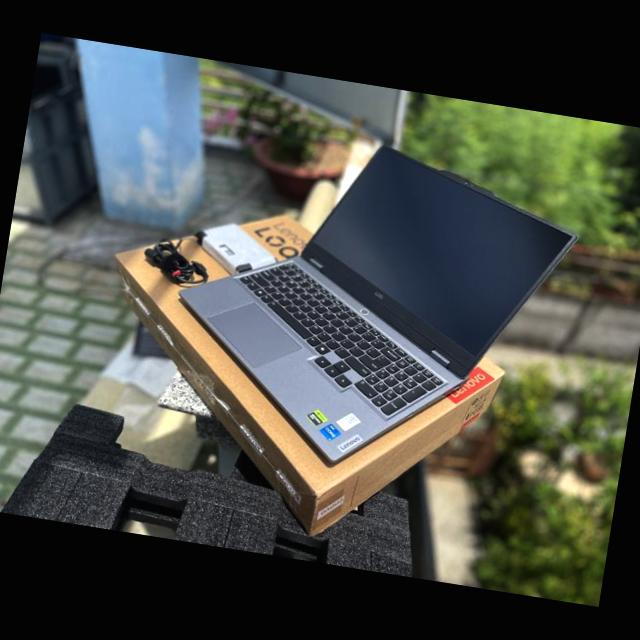laptop: (136, 110, 589, 491)
